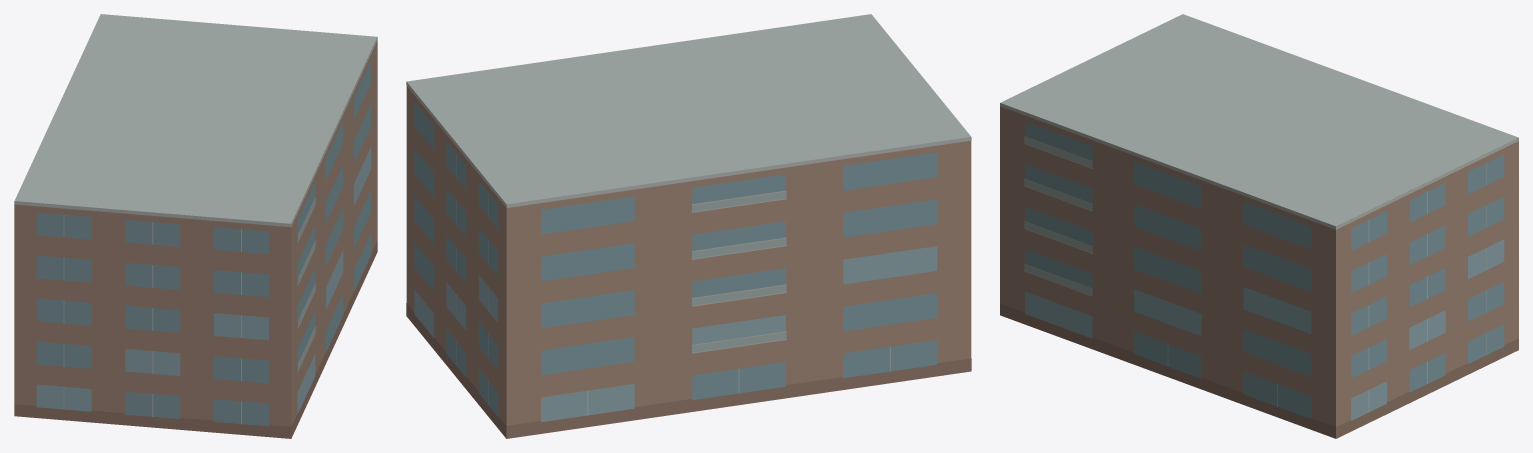
File: residential-a5b4c0c1-7373-4d46-8edd-3fd8c8f7eb35.glb
3 renders of one model, left to right at view 1: azimuth 30°, elevation 25°; view 2: azimuth 150°, elevation 25°; view 3: azimuth 270°, elevation 25°, orthographic. The views are drawn at different scales.
Parts seen in each view (by area): view 1: residential-a5b4c0c1-7373-4d46-8edd-3fd8c8f7eb35.tmp; view 2: residential-a5b4c0c1-7373-4d46-8edd-3fd8c8f7eb35.tmp; view 3: residential-a5b4c0c1-7373-4d46-8edd-3fd8c8f7eb35.tmp.
Boxes of the visible parts, x1,y1,x2,y2 form: residential-a5b4c0c1-7373-4d46-8edd-3fd8c8f7eb35.tmp: (14, 14, 377, 438); residential-a5b4c0c1-7373-4d46-8edd-3fd8c8f7eb35.tmp: (406, 14, 971, 438); residential-a5b4c0c1-7373-4d46-8edd-3fd8c8f7eb35.tmp: (1000, 14, 1518, 438).
Bounding box in the file's own units: 32.7 × 15.25 × 33.75.
